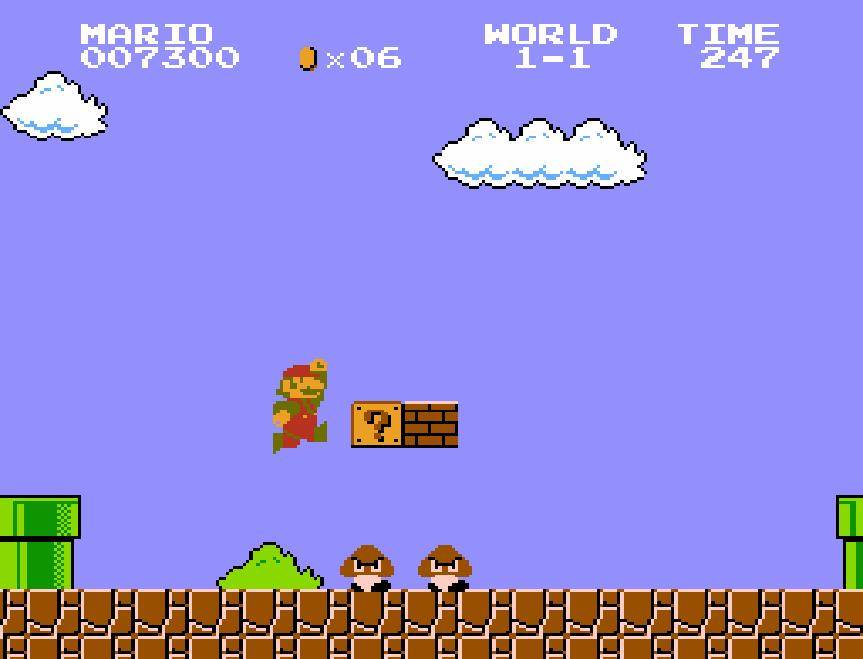big_mario: (270, 357, 328, 456)
